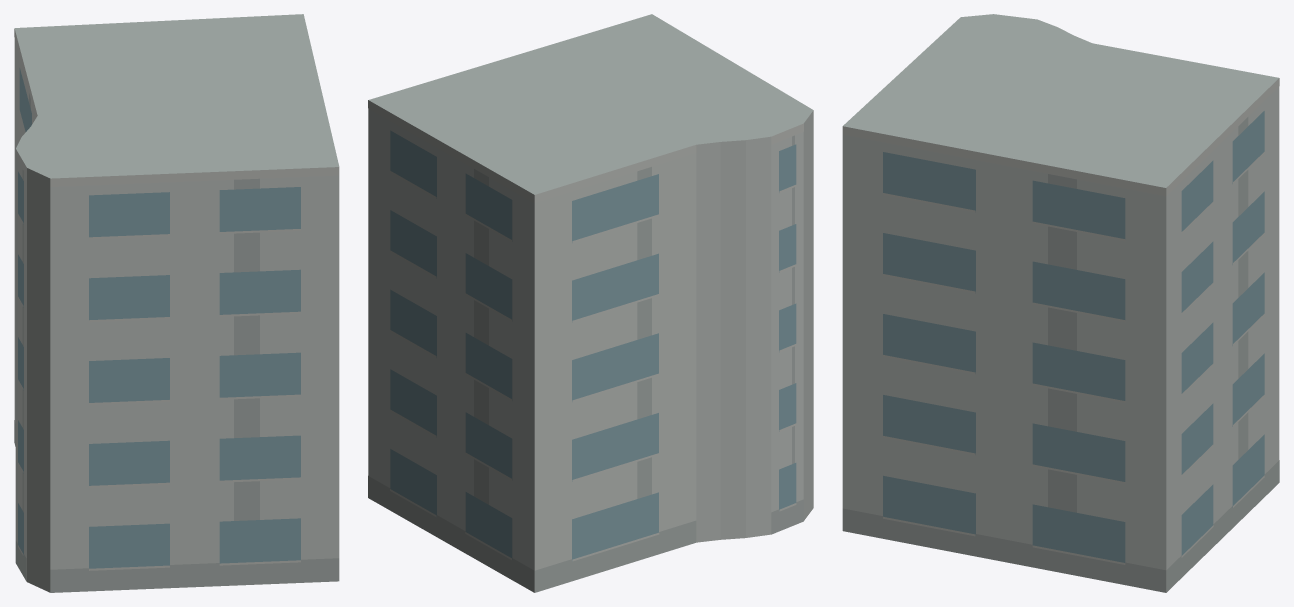
Rendered from survey-upis-32728741.glb.
3 renders of one model, left to right at view 1: azimuth 30°, elevation 25°; view 2: azimuth 150°, elevation 25°; view 3: azimuth 270°, elevation 25°, orthographic. The views are drawn at different scales.
Parts seen in each view (by area): view 1: survey-upis-32728741.tmp; view 2: survey-upis-32728741.tmp; view 3: survey-upis-32728741.tmp.
Part boxes in pixels (<box>): survey-upis-32728741.tmp: <box>14,14,339,592</box>; survey-upis-32728741.tmp: <box>368,14,813,592</box>; survey-upis-32728741.tmp: <box>842,14,1279,592</box>.
Bounding box in the file's own units: 10.8 × 11.7 × 11.45.
